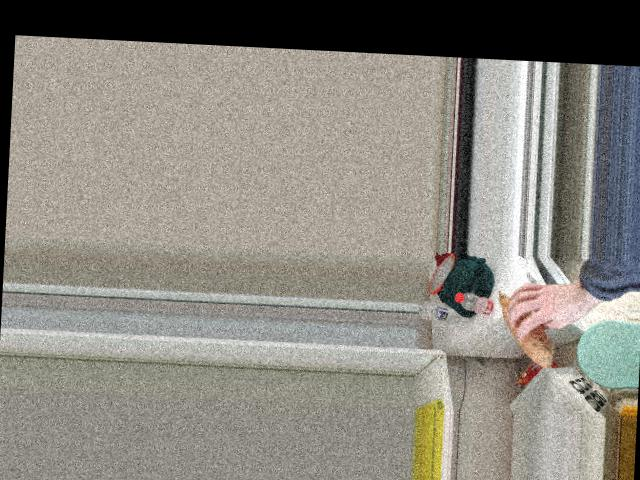sweet_potato: (497, 285, 554, 362)
